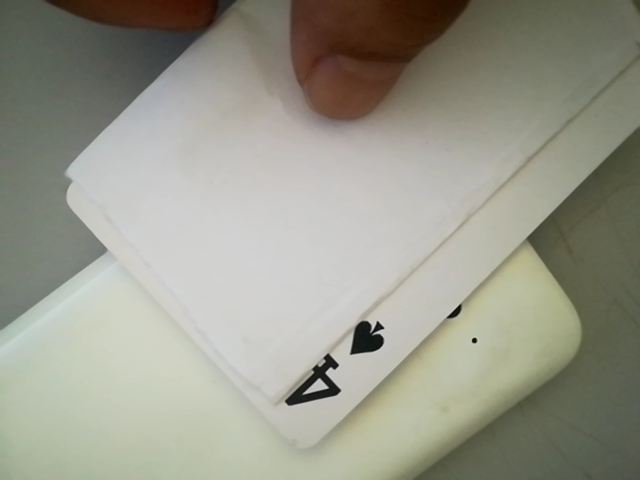ht 4: (268, 307, 407, 427)
